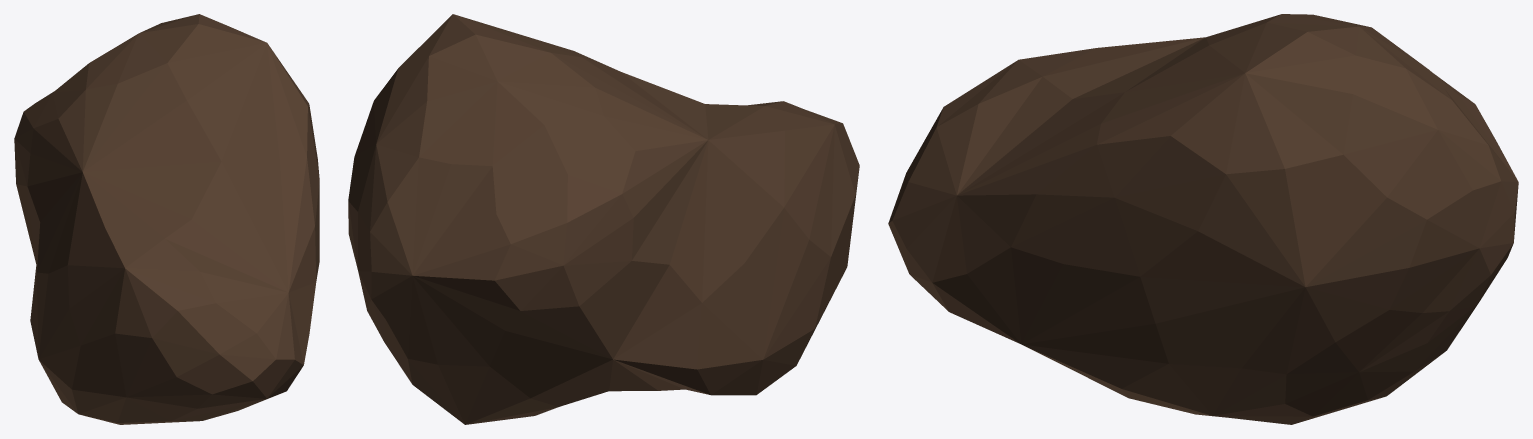
Rendered from ITMI_GOLDNUGGET_01.OBJ.
3 renders of one model, left to right at view 1: azimuth 30°, elevation 25°; view 2: azimuth 150°, elevation 25°; view 3: azimuth 270°, elevation 25°, orthographic. The views are drawn at different scales.
Visible parts, largest first — view 1: ITMI_GOLDNUGGET_01; view 2: ITMI_GOLDNUGGET_01; view 3: ITMI_GOLDNUGGET_01.
Boxes of the visible parts, box(x1,y1,x2,y2) form: ITMI_GOLDNUGGET_01: box(14, 14, 319, 424); ITMI_GOLDNUGGET_01: box(348, 14, 859, 424); ITMI_GOLDNUGGET_01: box(888, 14, 1518, 424).
Size of the model in its own units: 0.0946 by 0.094 by 0.134.
